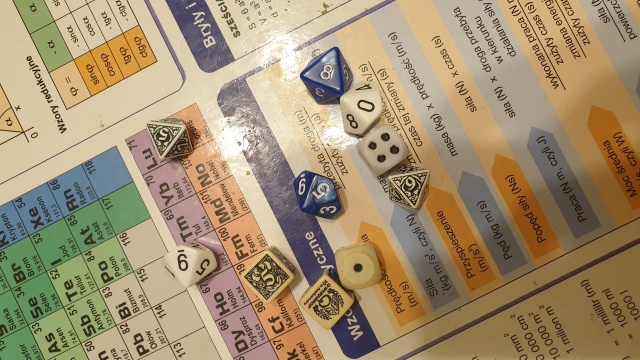d10-10: (340, 80, 386, 137)
d10-5: (290, 170, 345, 223)
d10-8: (299, 45, 349, 105)
d10-9: (154, 236, 223, 287)
d6-1: (331, 244, 383, 288)
d6-4: (359, 126, 409, 175)
d6p-5: (243, 249, 297, 301)
d6p-6: (297, 273, 353, 331)
d8p-5: (146, 117, 195, 163)
d8p-6: (387, 163, 431, 213)
